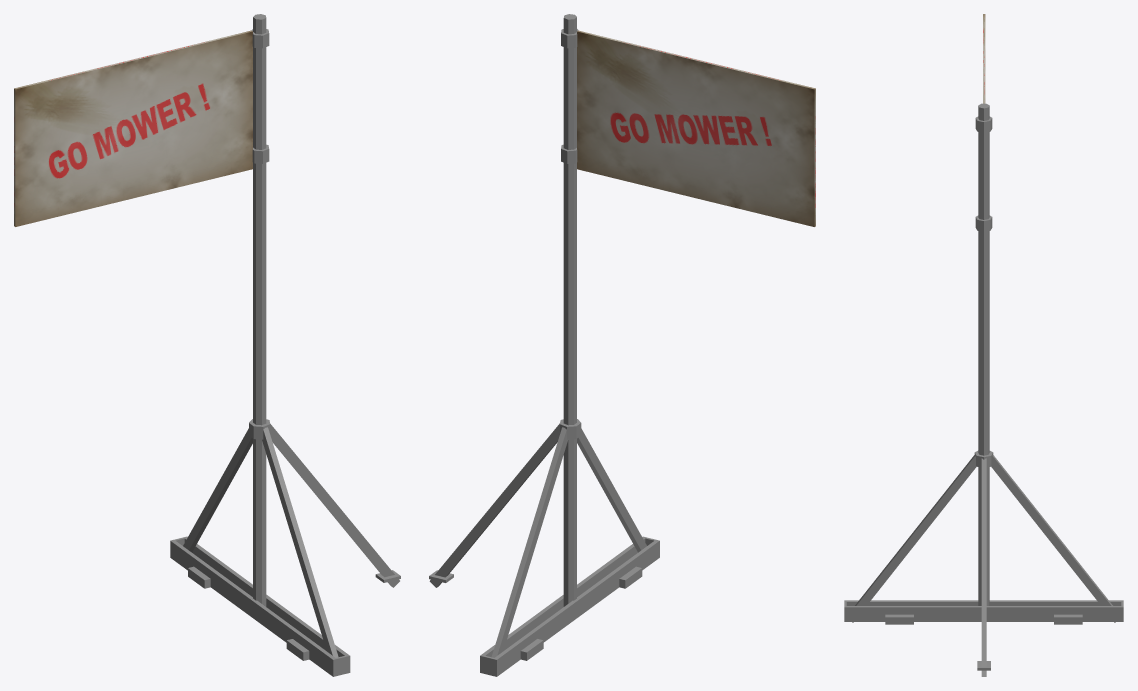
Rendered from MowerFlag.FBX.
3 renders of one model, left to right at view 1: azimuth 30°, elevation 25°; view 2: azimuth 150°, elevation 25°; view 3: azimuth 270°, elevation 25°, orthographic. The views are drawn at different scales.
Visible parts, largest first — view 1: MowerFlag, MowerFlagpole; view 2: MowerFlag, MowerFlagpole; view 3: MowerFlagpole.
Part boxes in pixels (<box>): MowerFlag: <box>14,30,252,226</box>; MowerFlagpole: <box>170,14,400,676</box>; MowerFlag: <box>577,30,815,226</box>; MowerFlagpole: <box>429,14,659,676</box>; MowerFlagpole: <box>844,103,1123,676</box>.
Bounding box in the file's own units: 32.55 × 48.74 × 23.91.
2 materials, 1 textured.
